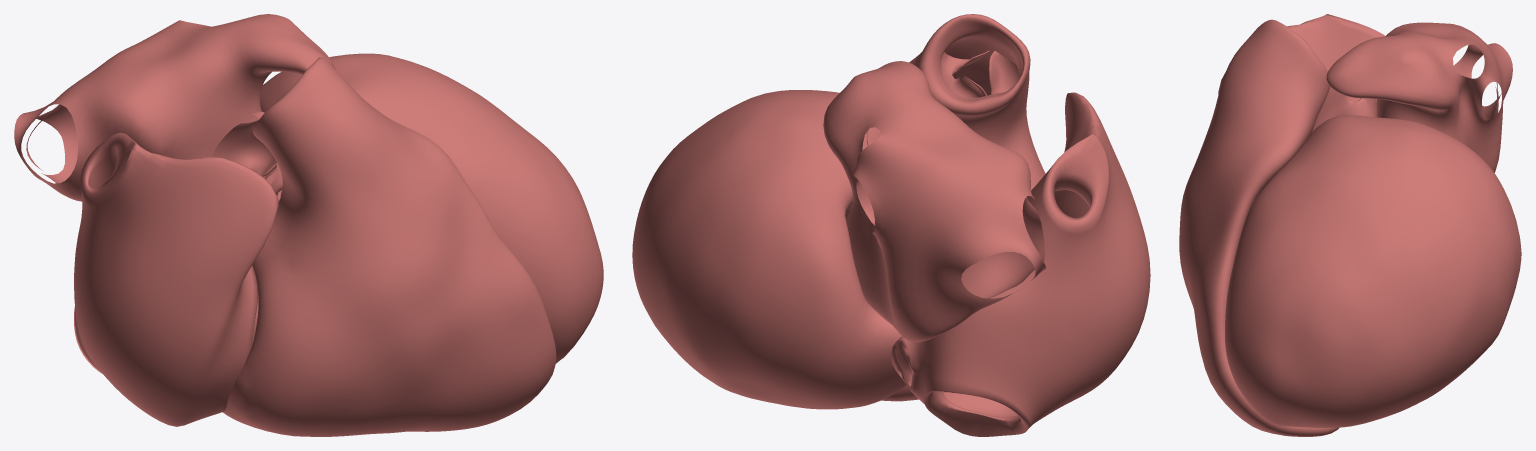
The model's file is VH_F_Heart.glb.
3 views of the same model, side by side, from view 1: azimuth 30°, elevation 25°; view 2: azimuth 150°, elevation 25°; view 3: azimuth 270°, elevation 25° (orthographic). The views are drawn at different scales.
Visible parts, largest first — view 1: VH_F_right_ventricle, VH_F_right_cardiac_atrium, VH_F_left_ventricle, VH_F_left_cardiac_atrium, VH_F_aortic_valve; view 2: VH_F_left_ventricle, VH_F_right_cardiac_atrium, VH_F_left_cardiac_atrium, VH_F_right_ventricle, VH_F_pulmonary_valve; view 3: VH_F_left_ventricle, VH_F_right_ventricle, VH_F_left_cardiac_atrium, VH_F_right_cardiac_atrium, VH_F_aortic_valve.
Part boxes in pixels (x1=…): VH_F_right_ventricle: x1=222, y1=57, x2=556, y2=436; VH_F_right_cardiac_atrium: x1=74, y1=132, x2=278, y2=426; VH_F_left_ventricle: x1=259, y1=53, x2=603, y2=363; VH_F_left_cardiac_atrium: x1=14, y1=14, x2=335, y2=201; VH_F_aortic_valve: x1=211, y1=111, x2=282, y2=202; VH_F_left_ventricle: x1=632, y1=90, x2=906, y2=409; VH_F_right_cardiac_atrium: x1=890, y1=92, x2=1150, y2=436; VH_F_left_cardiac_atrium: x1=823, y1=61, x2=1046, y2=342; VH_F_right_ventricle: x1=881, y1=14, x2=1045, y2=401; VH_F_pulmonary_valve: x1=940, y1=50, x2=1019, y2=97; VH_F_left_ventricle: x1=1225, y1=115, x2=1521, y2=427; VH_F_right_ventricle: x1=1179, y1=19, x2=1339, y2=436; VH_F_left_cardiac_atrium: x1=1326, y1=22, x2=1512, y2=172; VH_F_right_cardiac_atrium: x1=1218, y1=14, x2=1385, y2=101; VH_F_aortic_valve: x1=1312, y1=87, x2=1377, y2=132.
Size of the model in its own units: 0.1425 by 0.11 by 0.1015.
